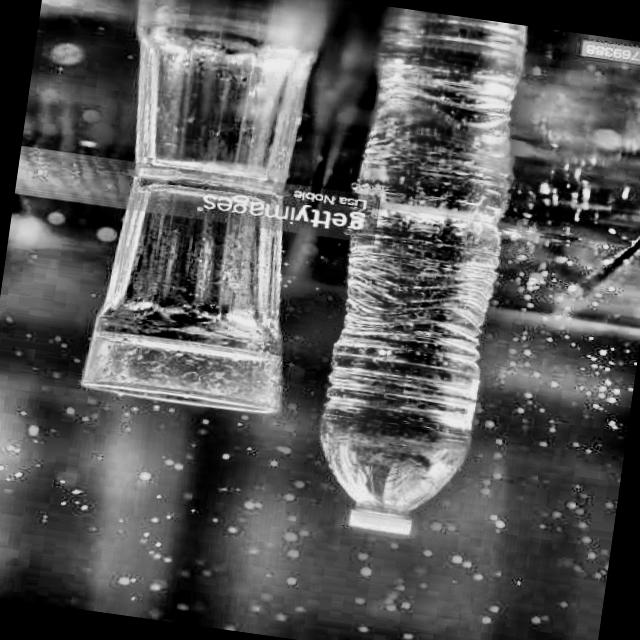waterbottle: (294, 189, 518, 556)
